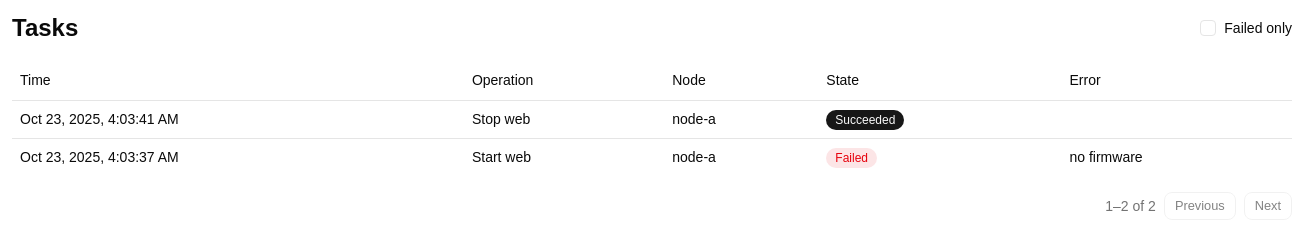
lists tasks newest first and filters failures
Expected: the row "Oct 23, 2025, 4:03:37 AM Start web node-a Failed no firmware" is shown, [12,138,1292,176]
Expected: the table named "Tasks" is shown, [12,60,1292,176]
Click the checkbox named "Failed only": {"x": 1208, "y": 28} [1200,20,1216,36]
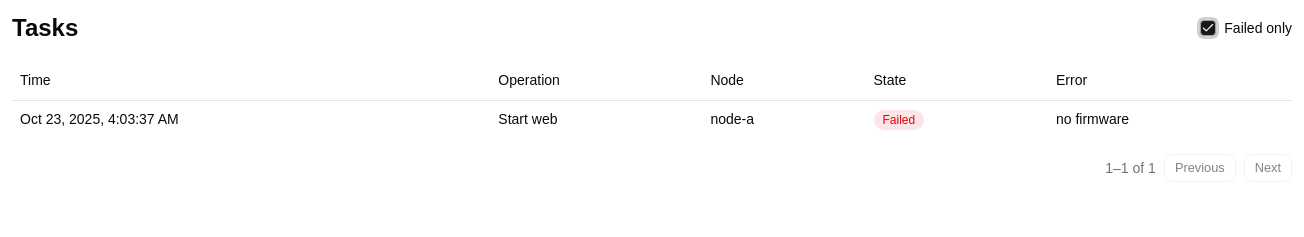
Expected: the number of rows is 2, [12,60,1292,100]; [12,100,1292,138]
Expected: the link "Stop web" is gone
